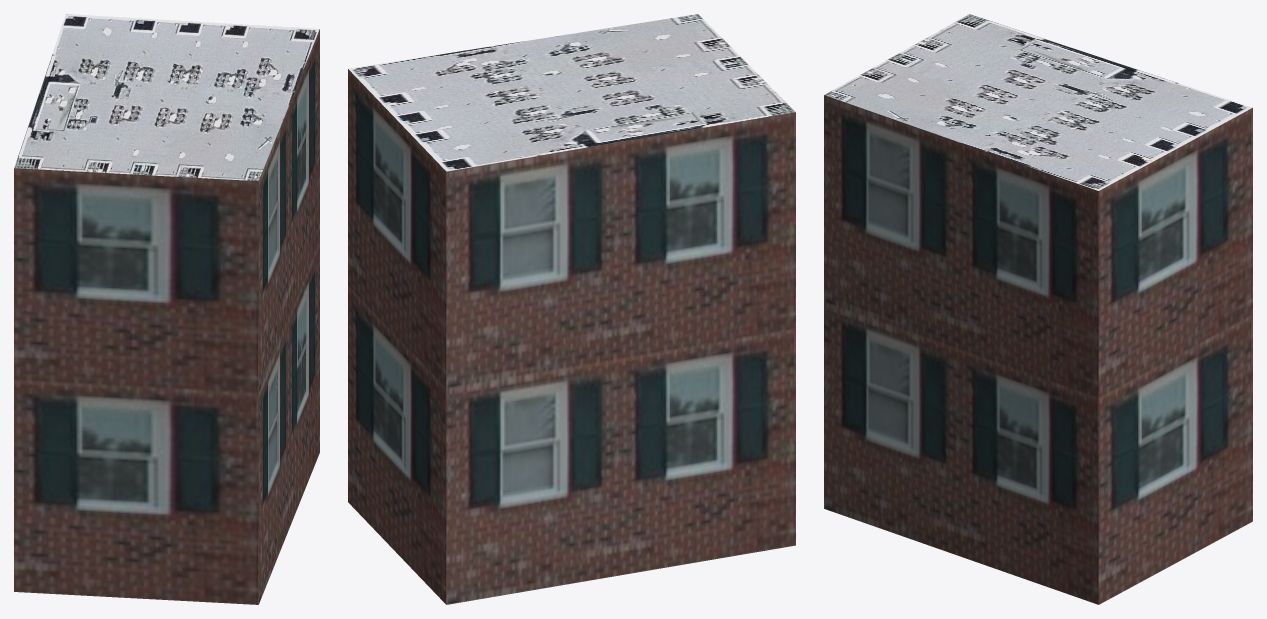
File: ResTex__2106.fbx
3 renders of one model, left to right at view 1: azimuth 30°, elevation 25°; view 2: azimuth 150°, elevation 25°; view 3: azimuth 270°, elevation 25°, orthographic. The views are drawn at different scales.
Visible parts, largest first — view 1: CityEngineMaterial_14_m, CityEngineMaterial_4_m; view 2: CityEngineMaterial_14_m, CityEngineMaterial_4_m; view 3: CityEngineMaterial_14_m, CityEngineMaterial_4_m.
Boxes of the visible parts, x1,y1,x2,y2 form: CityEngineMaterial_14_m: [14, 29, 319, 604]; CityEngineMaterial_4_m: [14, 14, 319, 181]; CityEngineMaterial_14_m: [348, 69, 795, 604]; CityEngineMaterial_4_m: [348, 14, 795, 171]; CityEngineMaterial_14_m: [824, 95, 1252, 604]; CityEngineMaterial_4_m: [824, 14, 1252, 190].
Size of the model in its own units: 5.51 by 6 by 5.63.
2 materials, 2 textured.
